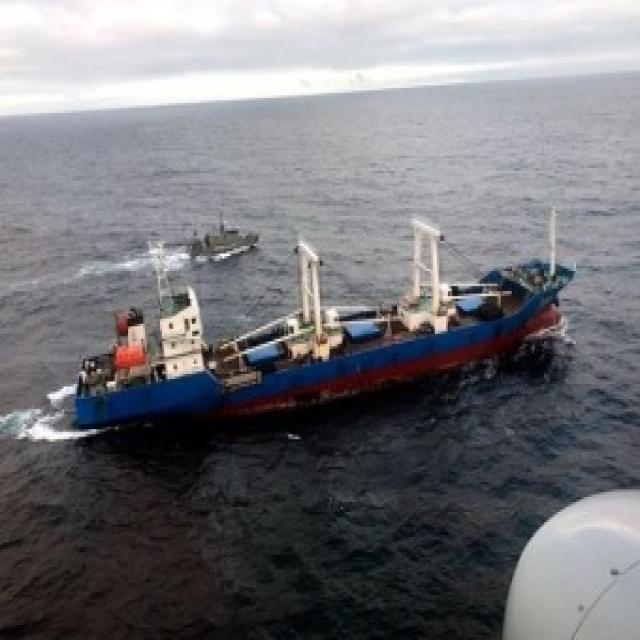Ship: (61, 232, 590, 458)
